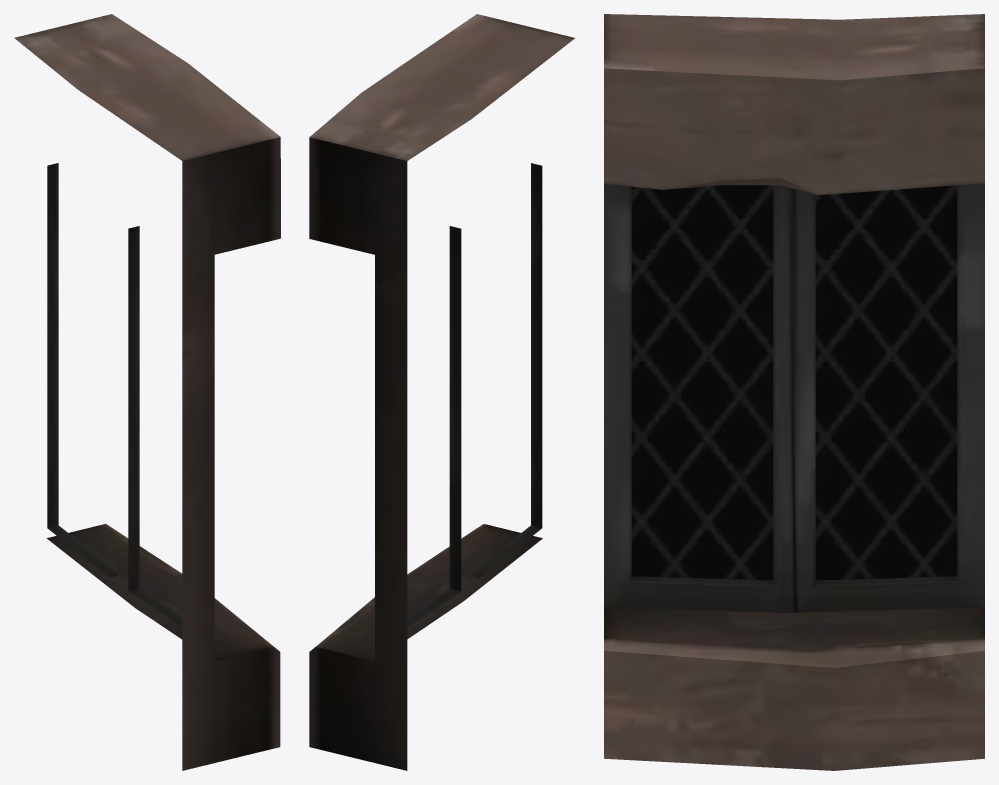
3 renders of one model, left to right at view 1: azimuth 30°, elevation 25°; view 2: azimuth 150°, elevation 25°; view 3: azimuth 270°, elevation 25°, orthographic. The views are drawn at different scales.
Visible parts, largest first — view 1: body0_model0_lod0_mesh0; view 2: body0_model0_lod0_mesh0; view 3: body0_model0_lod0_mesh0.
Boxes of the visible parts, left/top/right/bottom form: body0_model0_lod0_mesh0: left=14, top=14, right=280, bottom=770; body0_model0_lod0_mesh0: left=309, top=14, right=574, bottom=770; body0_model0_lod0_mesh0: left=604, top=14, right=984, bottom=770.
Size of the model in its own units: 18.14 by 96.76 by 48.
Materials: 1 (1 with a texture image).
